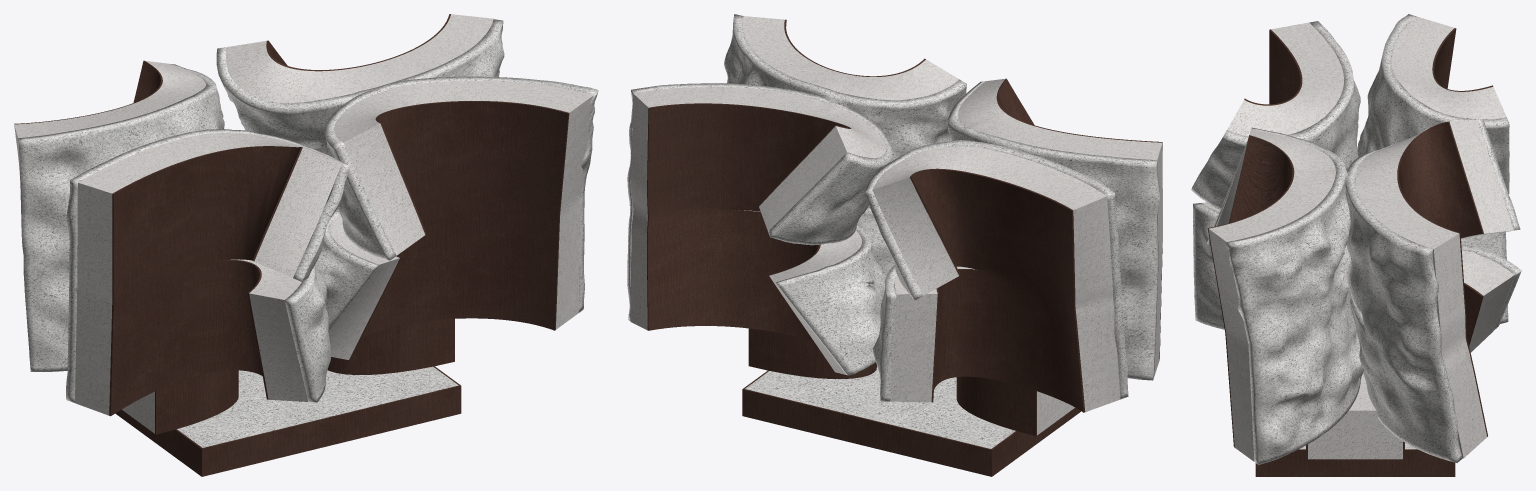
File: preview.glb
3 views of the same model, side by side, from view 1: azimuth 30°, elevation 25°; view 2: azimuth 150°, elevation 25°; view 3: azimuth 270°, elevation 25° (orthographic). The views are drawn at different scales.
Parts seen in each view (by area): view 1: Material2 (×3); view 2: Material2 (×3); view 3: Material2 (×3).
Part boxes in pixels (left/top/right/bottom): Material2 (×3): left=14, top=14, right=598, bottom=476; Material2 (×3): left=627, top=14, right=1162, bottom=476; Material2 (×3): left=1191, top=14, right=1521, bottom=476.
Size of the model in its own units: 183 by 114 by 109.
Materials: 4 (3 with a texture image).
